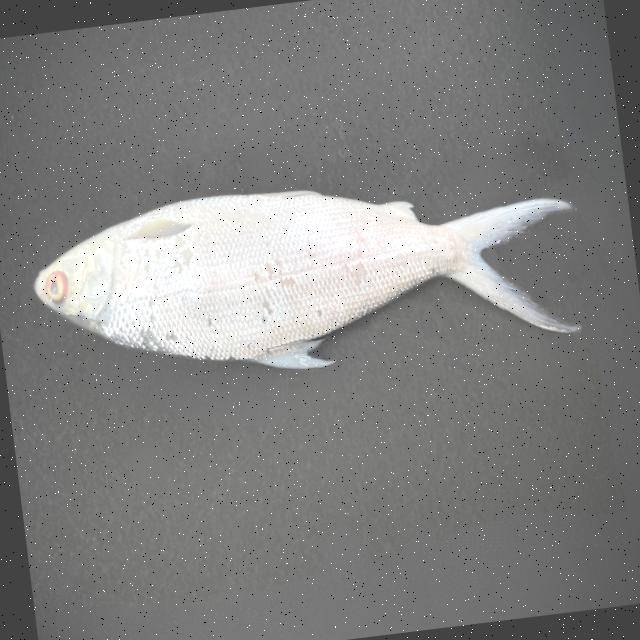910 g: (24, 151, 590, 400)
